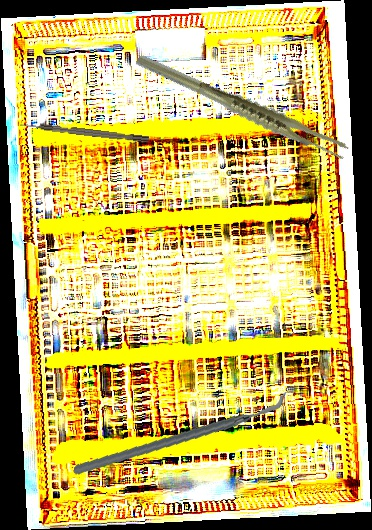Chopper: (73, 370, 289, 497)
Hook Surgical: (19, 120, 150, 144)
Tissue Forceps: (134, 18, 351, 194)
